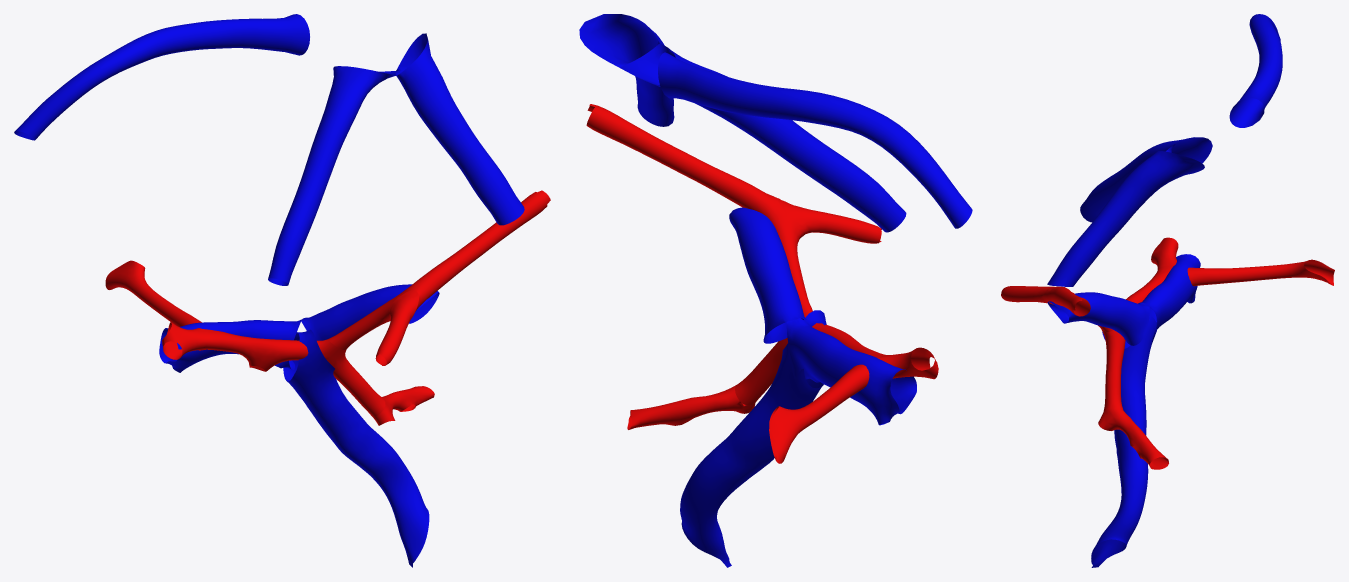
The model's file is VH_F_Blood_Vasculature_Liver.fbx.
3 renders of one model, left to right at view 1: azimuth 30°, elevation 25°; view 2: azimuth 150°, elevation 25°; view 3: azimuth 270°, elevation 25°, orthographic. The views are drawn at different scales.
Visible parts, largest first — view 1: VH_F_hepatic_portal_vein, VH_F_right_hepatic_vein, VH_F_left_hepatic_vein, VH_F_middle_hepatic_vein, VH_F_left_hepatic_artery, VH_F_left_branch_of_portal_vein, VH_F_right_branch_of_portal_vein, VH_F_right_hepatic_artery, VH_F_posterior_segmental_right_hepatic_artery, VH_F_proper_hepatic_artery, VH_F_middle_hepatic_artery_branch_of_left_hepatic_artery, VH_F_anterior_segmental_right_hepatic_artery (+1 smaller); view 2: VH_F_right_hepatic_vein, VH_F_hepatic_portal_vein, VH_F_middle_hepatic_vein, VH_F_left_hepatic_artery, VH_F_right_branch_of_portal_vein, VH_F_left_branch_of_portal_vein, VH_F_left_hepatic_vein, VH_F_posterior_segmental_right_hepatic_artery, VH_F_common_hepatic_artery, VH_F_middle_hepatic_artery_branch_of_left_hepatic_artery, VH_F_proper_hepatic_artery, VH_F_anterior_segmental_right_hepatic_artery (+1 smaller); view 3: VH_F_hepatic_portal_vein, VH_F_left_hepatic_vein, VH_F_right_hepatic_vein, VH_F_left_branch_of_portal_vein, VH_F_posterior_segmental_right_hepatic_artery, VH_F_middle_hepatic_vein, VH_F_right_branch_of_portal_vein, VH_F_common_hepatic_artery, VH_F_proper_hepatic_artery, VH_F_left_hepatic_artery, VH_F_middle_hepatic_artery_branch_of_left_hepatic_artery, VH_F_anterior_segmental_right_hepatic_artery (+1 smaller).
Boxes of the visible parts, box(x1,y1,x2,y2) form: VH_F_hepatic_portal_vein: box(283, 329, 429, 567); VH_F_right_hepatic_vein: box(14, 14, 309, 140); VH_F_left_hepatic_vein: box(395, 33, 524, 225); VH_F_middle_hepatic_vein: box(268, 66, 396, 285); VH_F_left_hepatic_artery: box(328, 190, 550, 349); VH_F_left_branch_of_portal_vein: box(301, 284, 439, 340); VH_F_right_branch_of_portal_vein: box(159, 319, 302, 372); VH_F_right_hepatic_artery: box(201, 328, 308, 371); VH_F_posterior_segmental_right_hepatic_artery: box(105, 260, 201, 326); VH_F_proper_hepatic_artery: box(317, 339, 385, 416); VH_F_middle_hepatic_artery_branch_of_left_hepatic_artery: box(375, 290, 418, 365); VH_F_anterior_segmental_right_hepatic_artery: box(162, 322, 207, 359); VH_F_right_hepatic_vein: box(658, 52, 972, 228); VH_F_hepatic_portal_vein: box(680, 310, 826, 567); VH_F_middle_hepatic_vein: box(620, 43, 906, 232); VH_F_left_hepatic_artery: box(586, 104, 811, 313); VH_F_right_branch_of_portal_vein: box(786, 318, 916, 425); VH_F_left_branch_of_portal_vein: box(729, 207, 806, 343); VH_F_left_hepatic_vein: box(579, 14, 674, 126); VH_F_posterior_segmental_right_hepatic_artery: box(769, 364, 869, 463); VH_F_common_hepatic_artery: box(627, 385, 755, 429); VH_F_middle_hepatic_artery_branch_of_left_hepatic_artery: box(777, 198, 881, 243); VH_F_proper_hepatic_artery: box(735, 309, 812, 405); VH_F_anterior_segmental_right_hepatic_artery: box(878, 347, 938, 379); VH_F_hepatic_portal_vein: box(1091, 314, 1156, 567); VH_F_left_hepatic_vein: box(1047, 151, 1204, 286); VH_F_right_hepatic_vein: box(1229, 14, 1282, 127); VH_F_left_branch_of_portal_vein: box(1047, 292, 1149, 345); VH_F_posterior_segmental_right_hepatic_artery: box(1187, 259, 1334, 286); VH_F_middle_hepatic_vein: box(1080, 137, 1212, 222); VH_F_right_branch_of_portal_vein: box(1142, 254, 1200, 344); VH_F_common_hepatic_artery: box(1098, 408, 1168, 469); VH_F_proper_hepatic_artery: box(1101, 329, 1125, 411); VH_F_left_hepatic_artery: box(1040, 286, 1112, 331); VH_F_middle_hepatic_artery_branch_of_left_hepatic_artery: box(1001, 286, 1054, 302); VH_F_anterior_segmental_right_hepatic_artery: box(1151, 237, 1178, 269).
Size of the model in its own units: 11.5 by 12.97 by 8.45.
